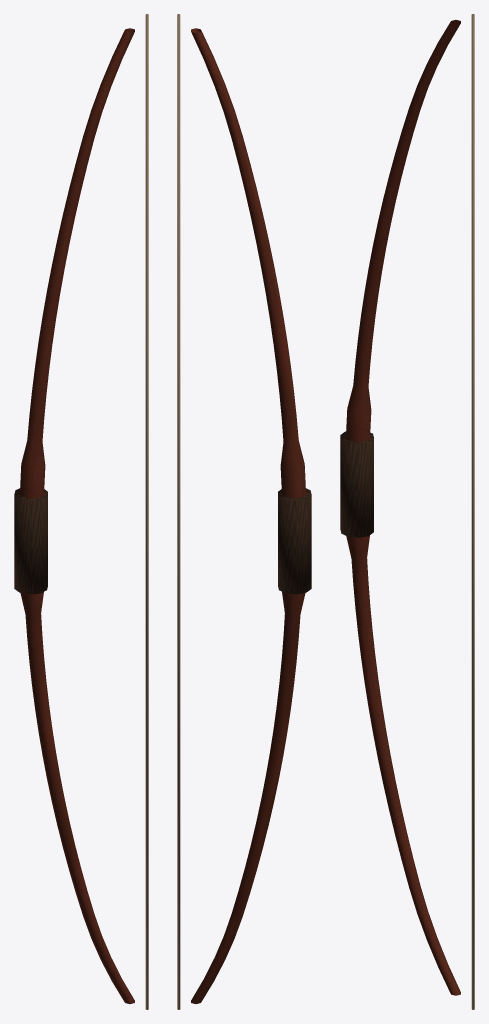
File: W_bow.glb
3 views of the same model, side by side, from view 1: azimuth 30°, elevation 25°; view 2: azimuth 150°, elevation 25°; view 3: azimuth 330°, elevation 25° (orthographic).
Parts seen in each view (by area): view 1: W_bow; view 2: W_bow; view 3: W_bow.
Boxes of the visible parts, <box> form: W_bow: <box>14,14,148,1009</box>; W_bow: <box>177,14,311,1009</box>; W_bow: <box>340,14,474,1009</box>.
Size of the model in its own units: 0.176 by 1.27 by 0.04.
Materials: 3 (2 with a texture image).
